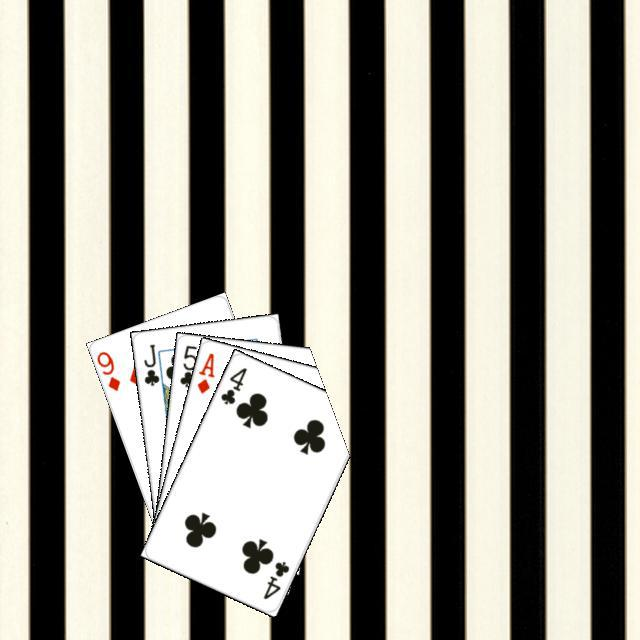4c: (258, 556, 291, 601), (216, 362, 249, 406)
5c: (175, 340, 199, 389)
9d: (92, 346, 122, 393)
Ad: (192, 348, 216, 395)
Jc: (139, 339, 161, 387)
